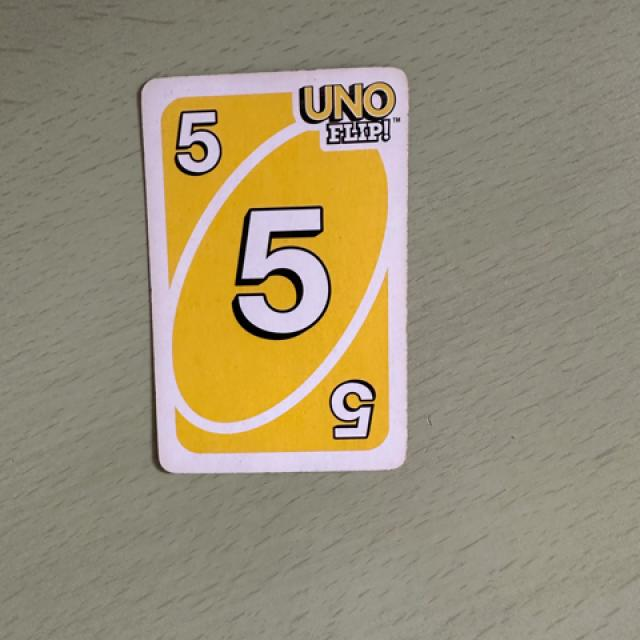lyellow-5: (157, 93, 244, 188)
